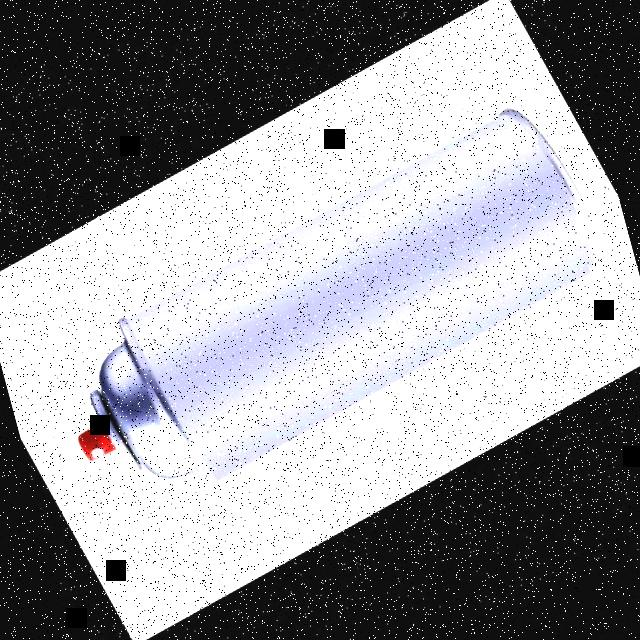chemical_spray_can: (78, 109, 602, 488)
